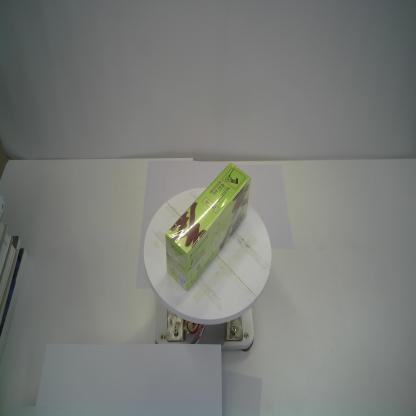Instant Drink: (164, 162, 252, 293)
